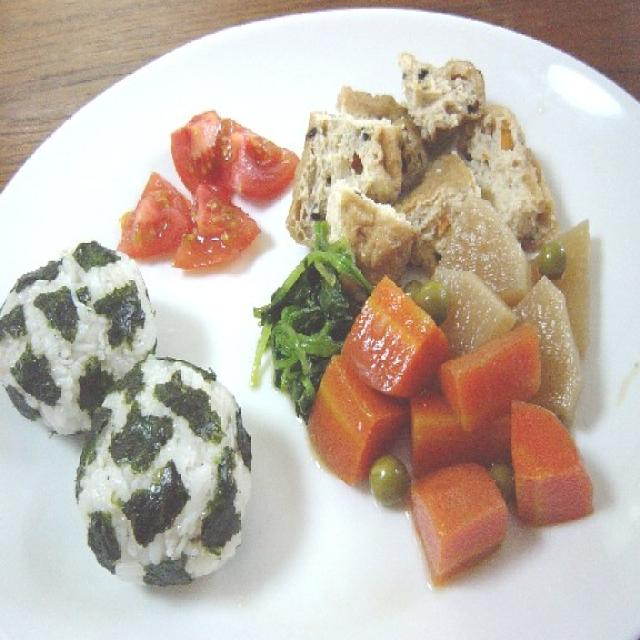熟制海鲜: (262, 30, 587, 394)
